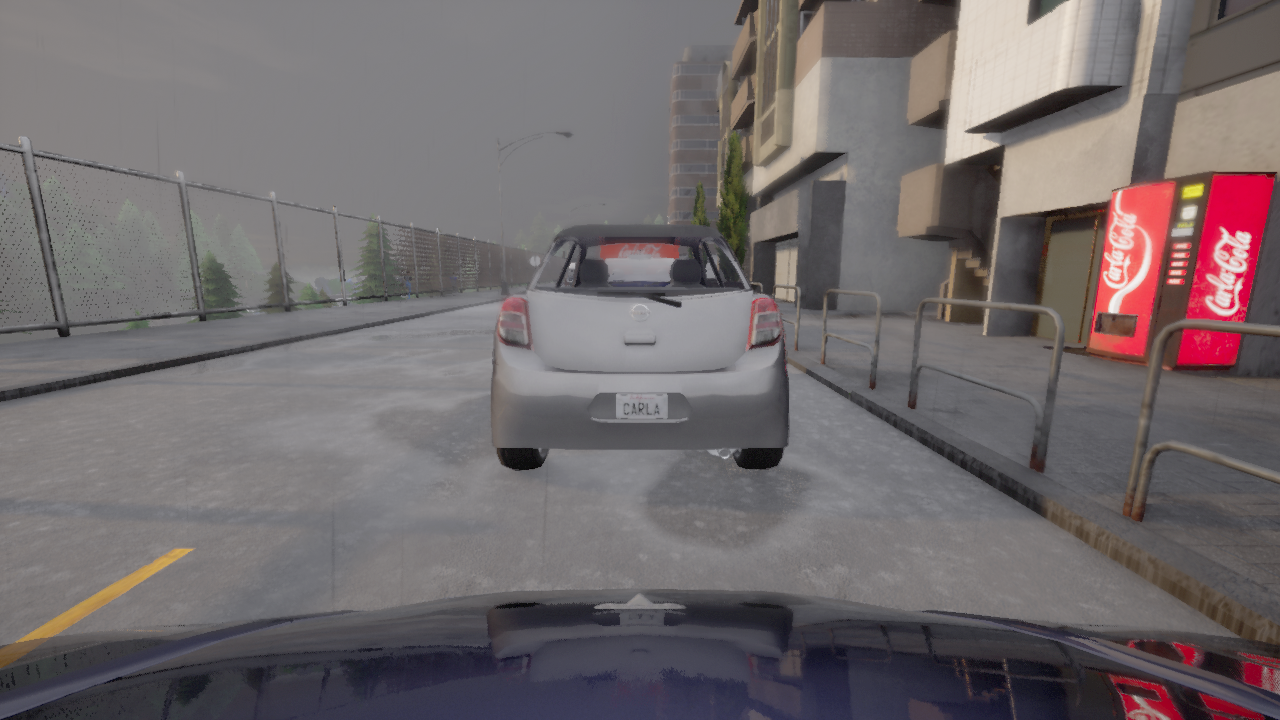cyclist: (0, 588, 1279, 719), (490, 224, 789, 470)
pedestrian: (402, 270, 415, 300), (449, 271, 458, 296)
